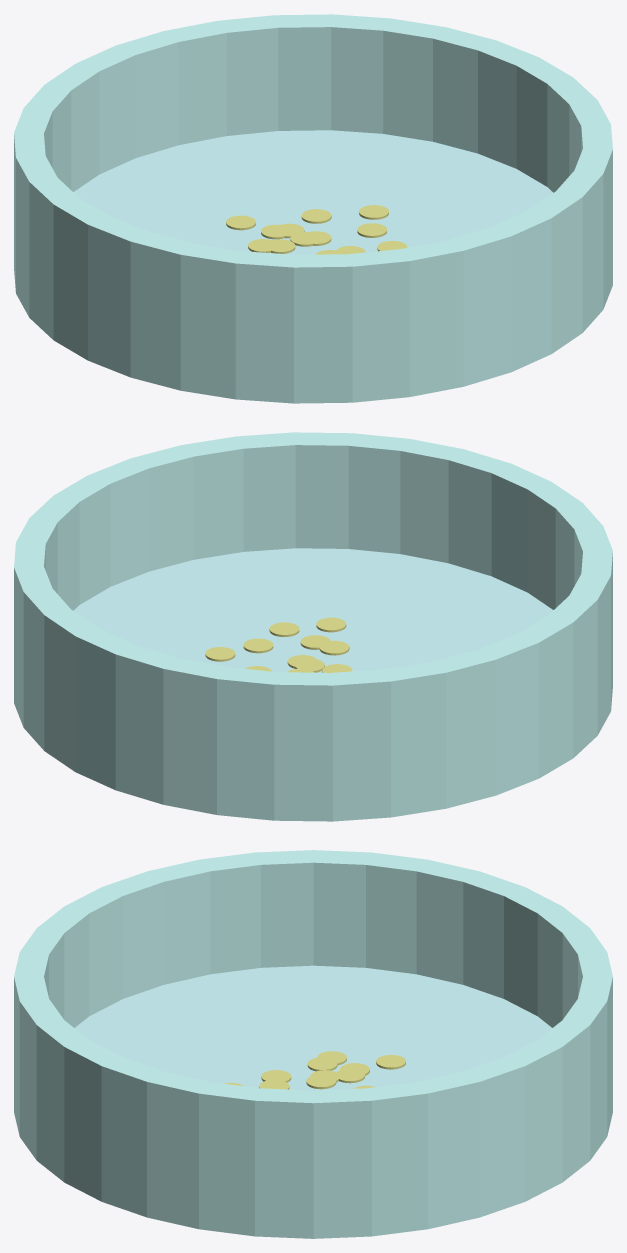
File: petriSchaal_Inhoud.glb
3 views of the same model, one above another, from view 1: azimuth 30°, elevation 25°; view 2: azimuth 150°, elevation 25°; view 3: azimuth 270°, elevation 25° (orthographic).
Visible parts, largest first — view 1: Cylinder, Cylinder.001; view 2: Cylinder, Cylinder.001; view 3: Cylinder, Cylinder.001.
Part boxes in pixels (<box>): Cylinder: <box>14,14,612,403</box>; Cylinder.001: <box>73,130,553,254</box>; Cylinder: <box>14,432,612,821</box>; Cylinder.001: <box>73,548,553,672</box>; Cylinder: <box>14,850,612,1238</box>; Cylinder.001: <box>75,965,551,1090</box>.
Size of the model in its own units: 2 by 0.5 by 2.
